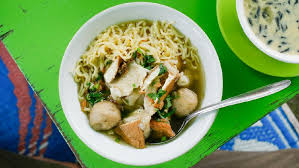bakso: (58, 19, 211, 143)
